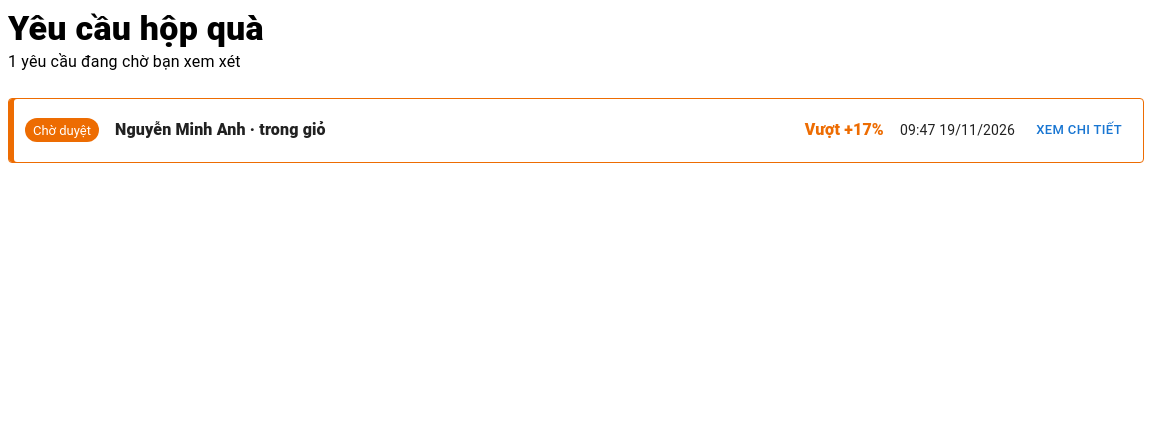
Test: GiftBoxRequestsPage › hiện yêu cầu chờ duyệt kèm mức vượt, mở chi tiết thấy cách liên hệ khách
Expected: the text "Chờ duyệt" is shown, [33,123,91,138]
Expected: the text "1 yêu cầu đang chờ bạn xem xét" is shown, [8,50,264,74]
Click the button "Xem chi tiết" at (1079, 130), box [1031,115,1127,146]
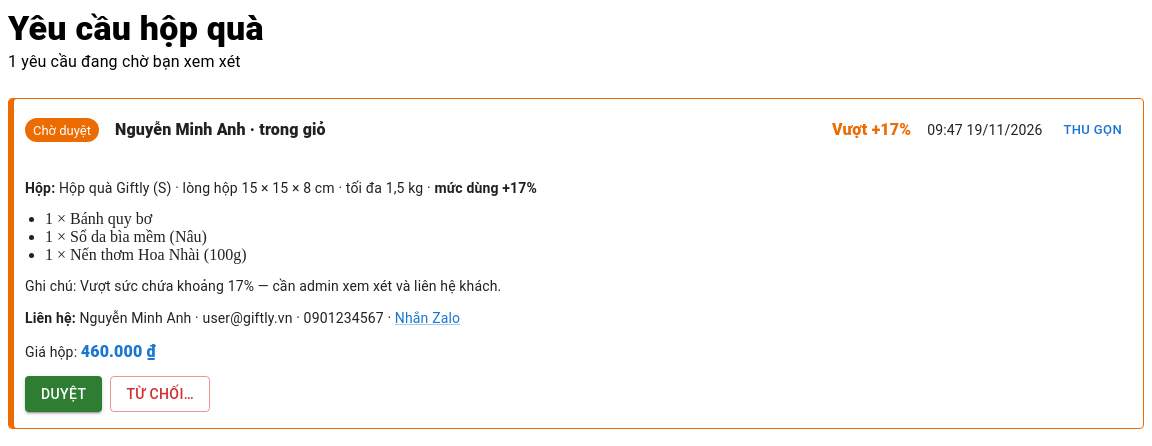
Expected: the text "user@giftly.vn" is shown, [202,310,292,326]
Expected: the button "Duyệt" is shown, [25,376,102,412]
